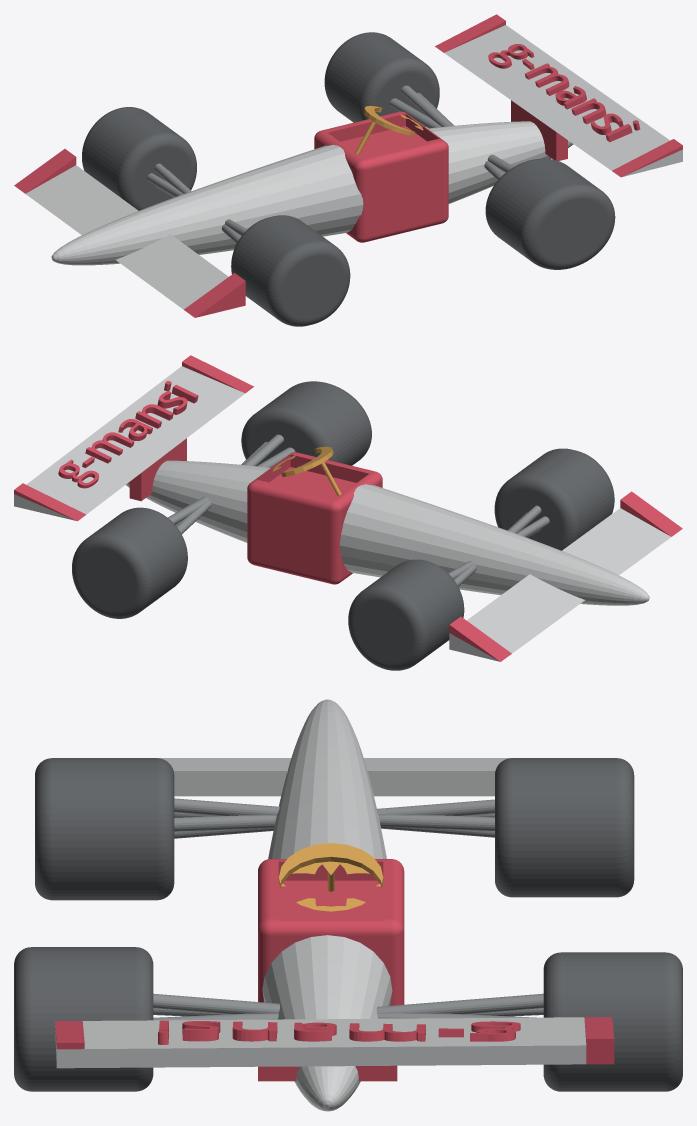
3 renders of one model, top to bottom at view 1: azimuth 30°, elevation 25°; view 2: azimuth 150°, elevation 25°; view 3: azimuth 270°, elevation 25°, orthographic. The views are drawn at different scales.
Visible parts, largest first — view 1: Mesh_Mesh_head_geo.001_lambert2SG.001; view 2: Mesh_Mesh_head_geo.001_lambert2SG.001; view 3: Mesh_Mesh_head_geo.001_lambert2SG.001.
Boxes of the visible parts, x1=… form: Mesh_Mesh_head_geo.001_lambert2SG.001: x1=14, y1=14, x2=682, y2=326; Mesh_Mesh_head_geo.001_lambert2SG.001: x1=14, y1=355, x2=682, y2=670; Mesh_Mesh_head_geo.001_lambert2SG.001: x1=14, y1=699, x2=682, y2=1111.
Bounding box in the file's own units: 139 × 25.99 × 96.
